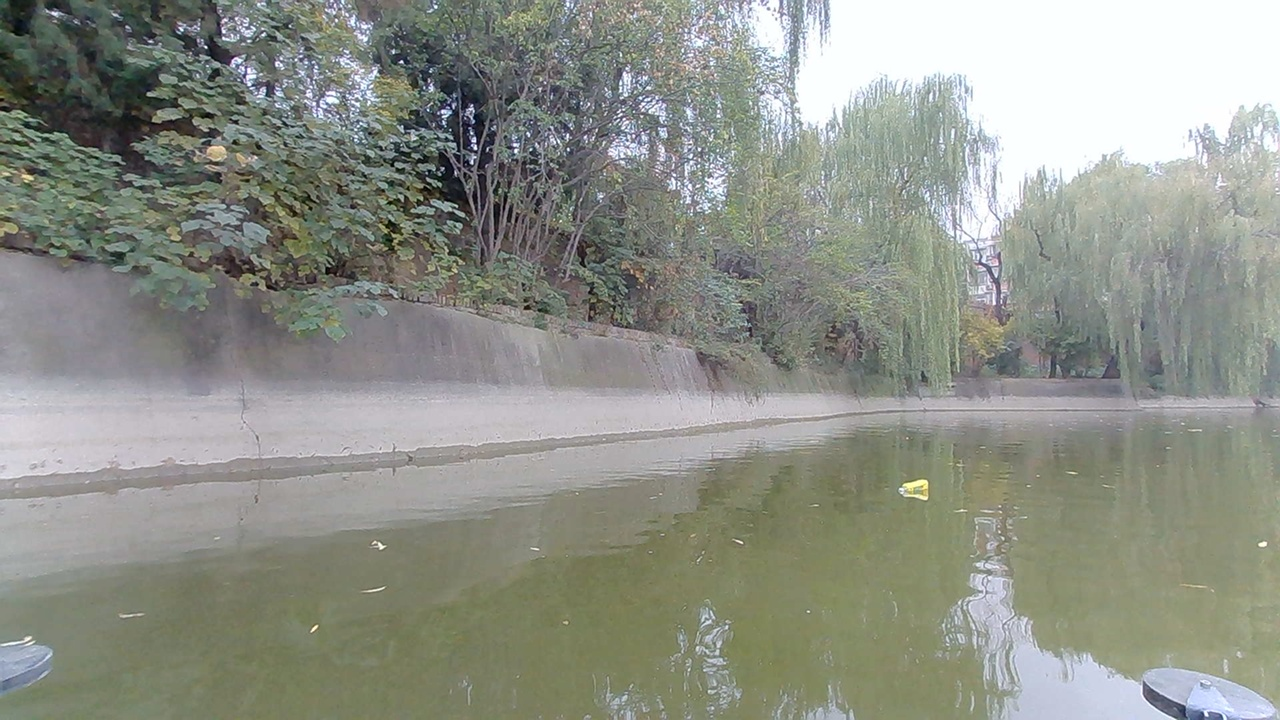bottle: (899, 477, 933, 500)
